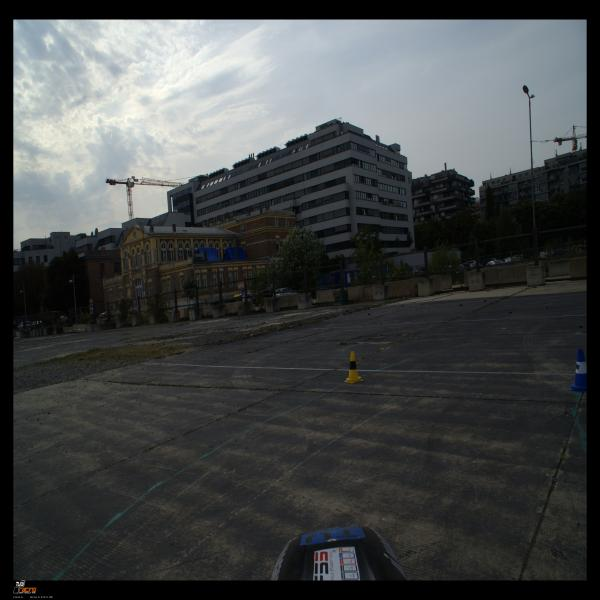blue_cone: (567, 349, 587, 392)
yellow_cone: (344, 352, 364, 384)
